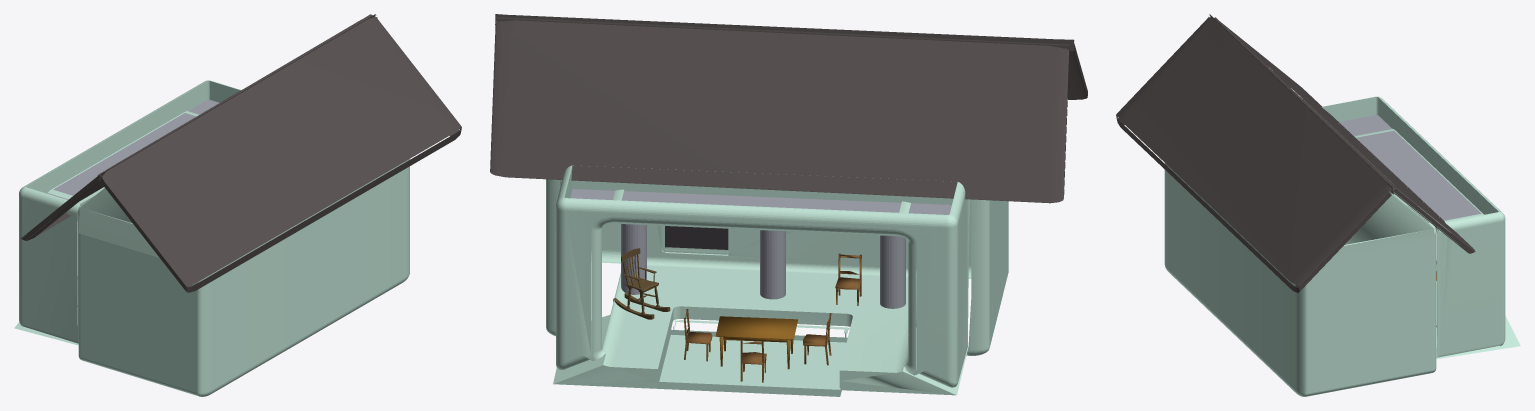
Rendered from house2.glb.
3 views of the same model, side by side, from view 1: azimuth 30°, elevation 25°; view 2: azimuth 150°, elevation 25°; view 3: azimuth 270°, elevation 25° (orthographic). The views are drawn at different scales.
Visible parts, largest first — view 1: house 2; view 2: house 2; view 3: house 2.
Part boxes in pixels (x1,y1,x2,y2): house 2: (14,14,461,396); house 2: (490,14,1087,396); house 2: (1116,14,1520,396).
Size of the model in its own units: 141 by 69.63 by 117.
2 materials, 2 textured.
